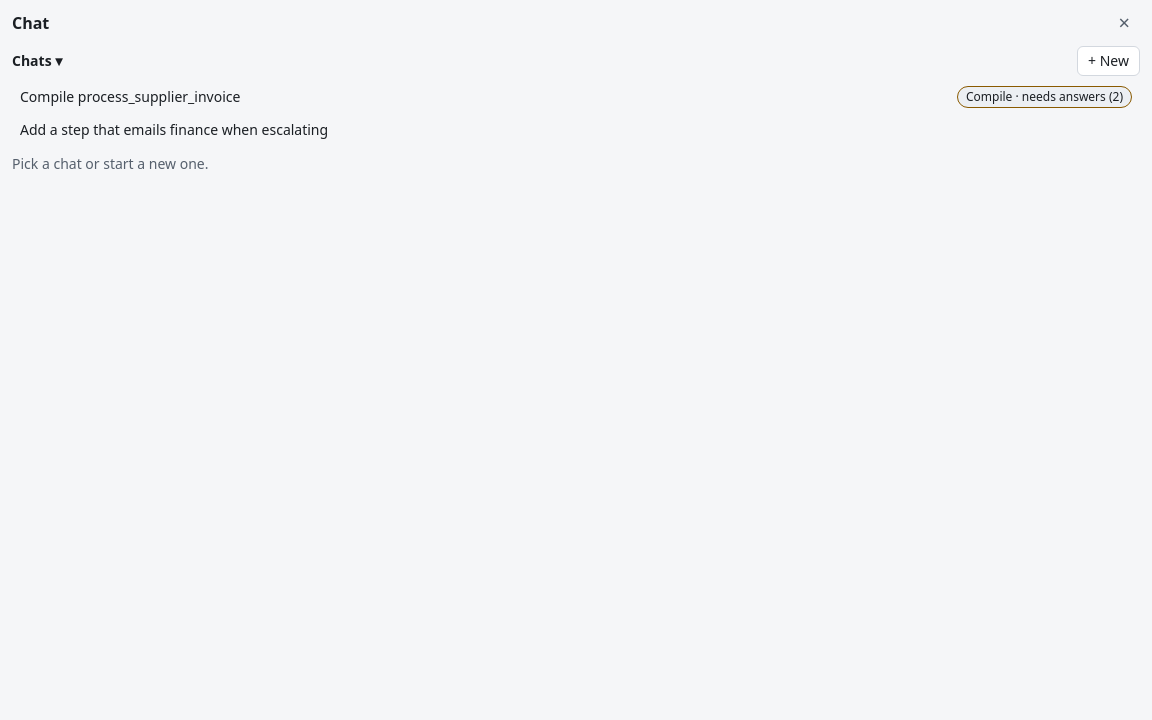
ChatPanel › picking a chat opens it, remembers it and folds the list
This screenshot has width=1152, height=720.
What coordinates should you click on to do the following:
click the button "Add a step that emails finance when escalating"
I would click on:
 (174, 129)
Its box is 12,114 -> 1140,146.
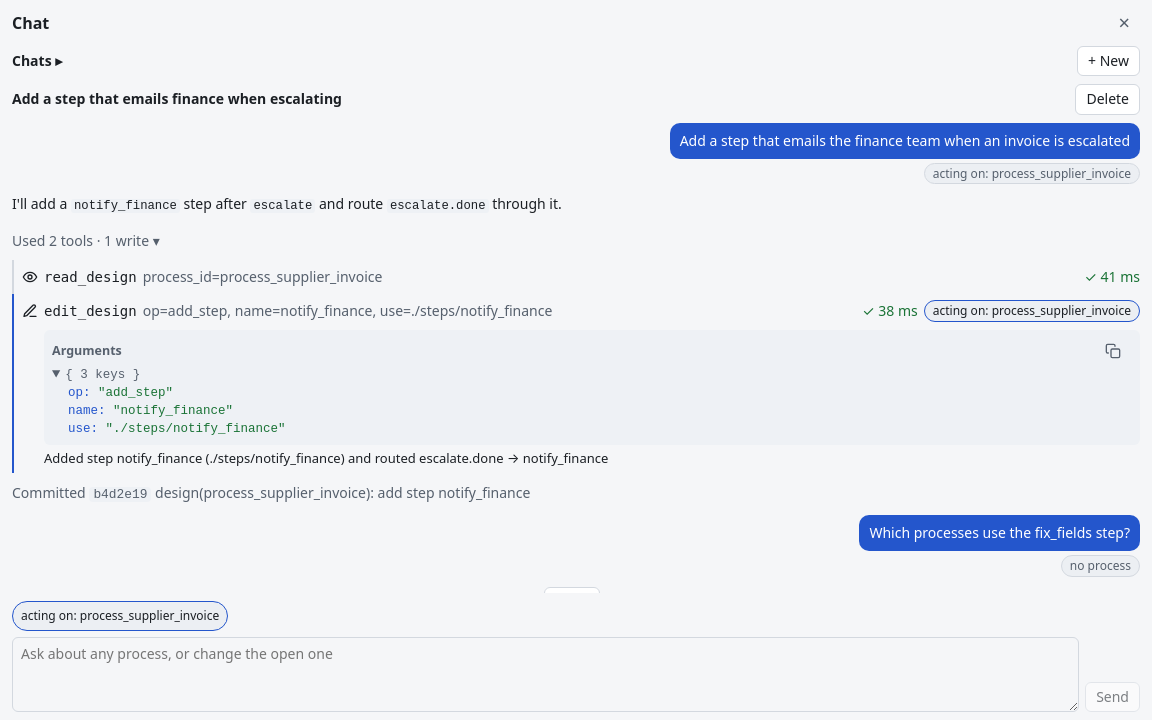
Check: the text "Add a step that emails the finance team when an invoice is escalated" is shown, box 670,123 -> 1140,159
What coordinates should you click on to do the following:
click the button "Chats ▸"
I would click on:
 (37, 61)
Its box is 12,46 -> 62,76.
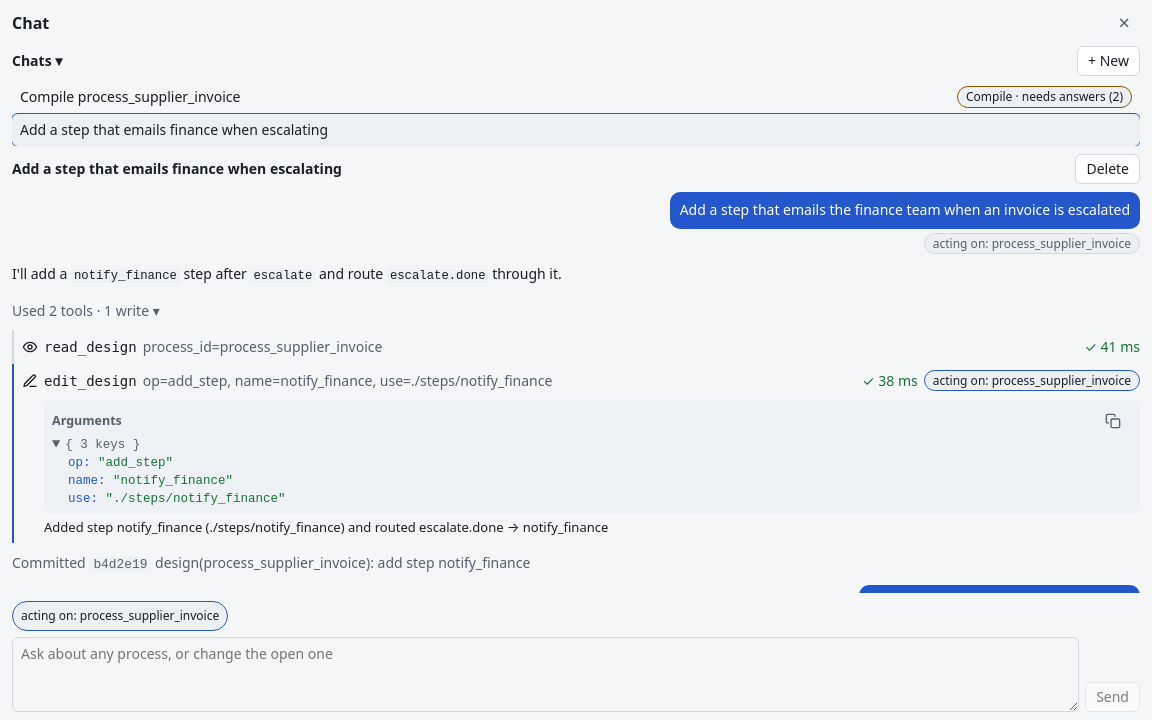
Check: the list named "Chats" is shown, box 12,80 -> 1140,146
